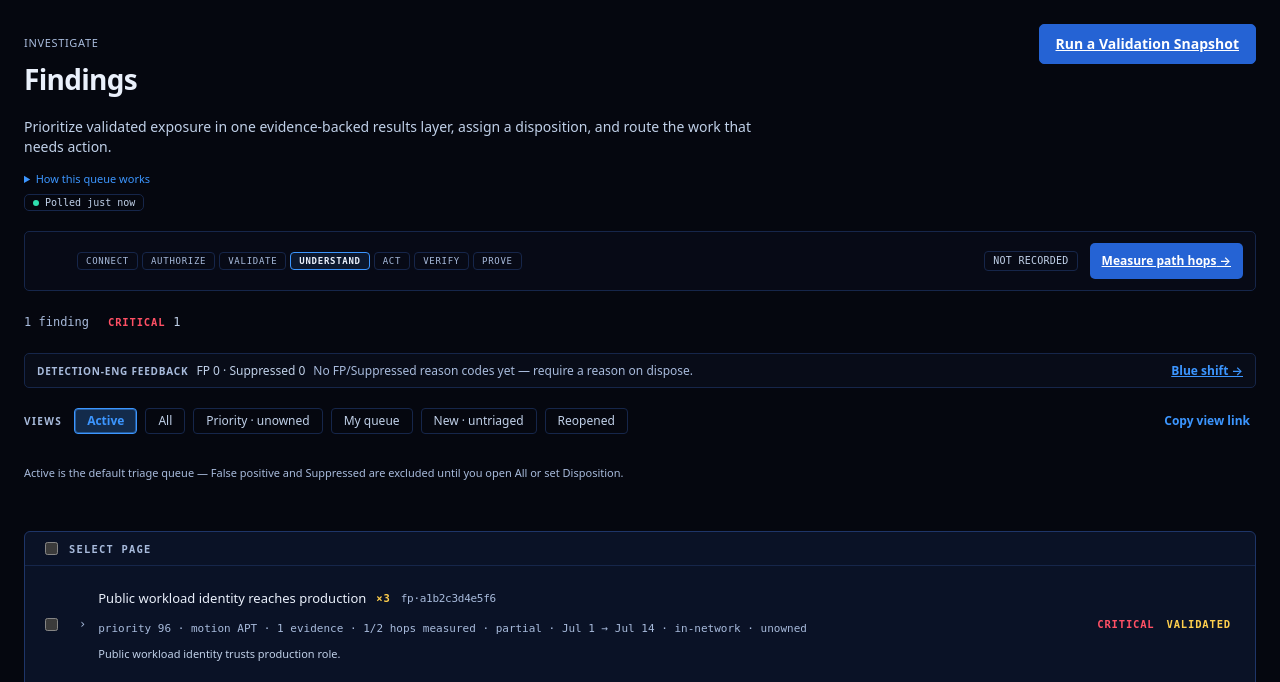
Test case: FindingsWorkbench v2 › bulk FP disposition includes mute fingerprint checkbox (ICP-P1-1)
Click the checkbox named "Select Public workload identity reaches production": x=52, y=624 x1=45 y1=618 x2=58 y2=631
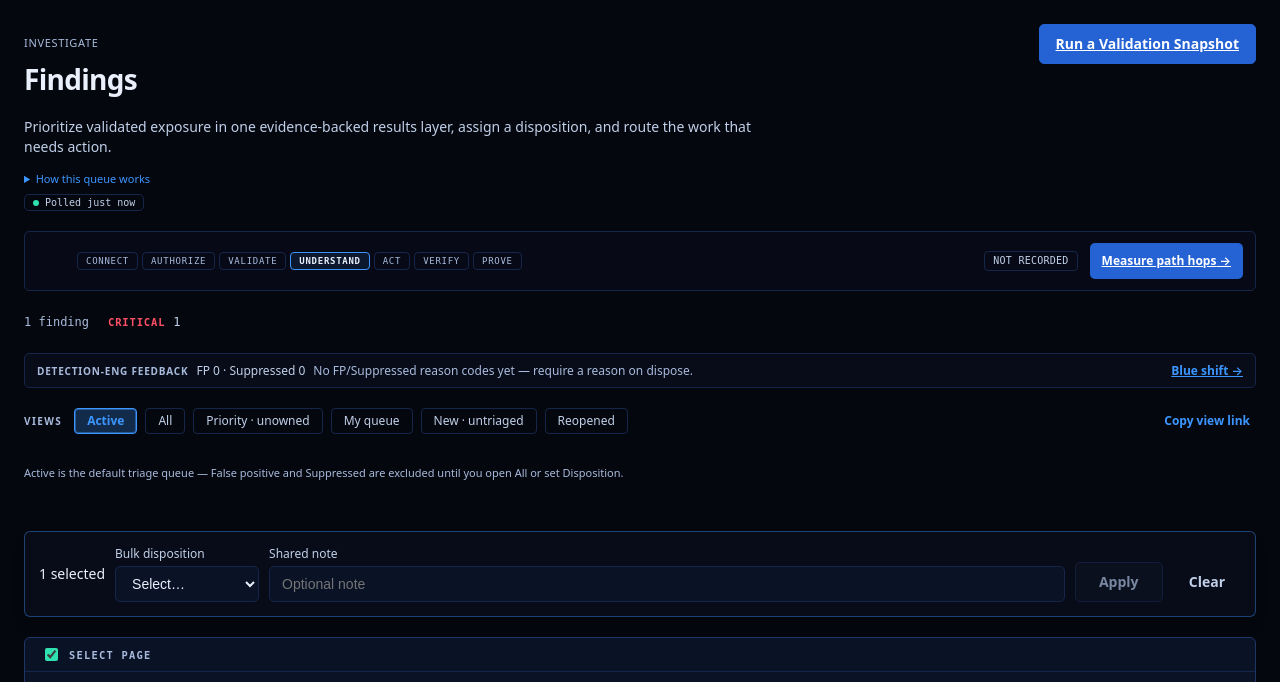
Select "False positive" in the dropdown labelled "Bulk disposition": x=187, y=584 x1=115 y1=566 x2=259 y2=602
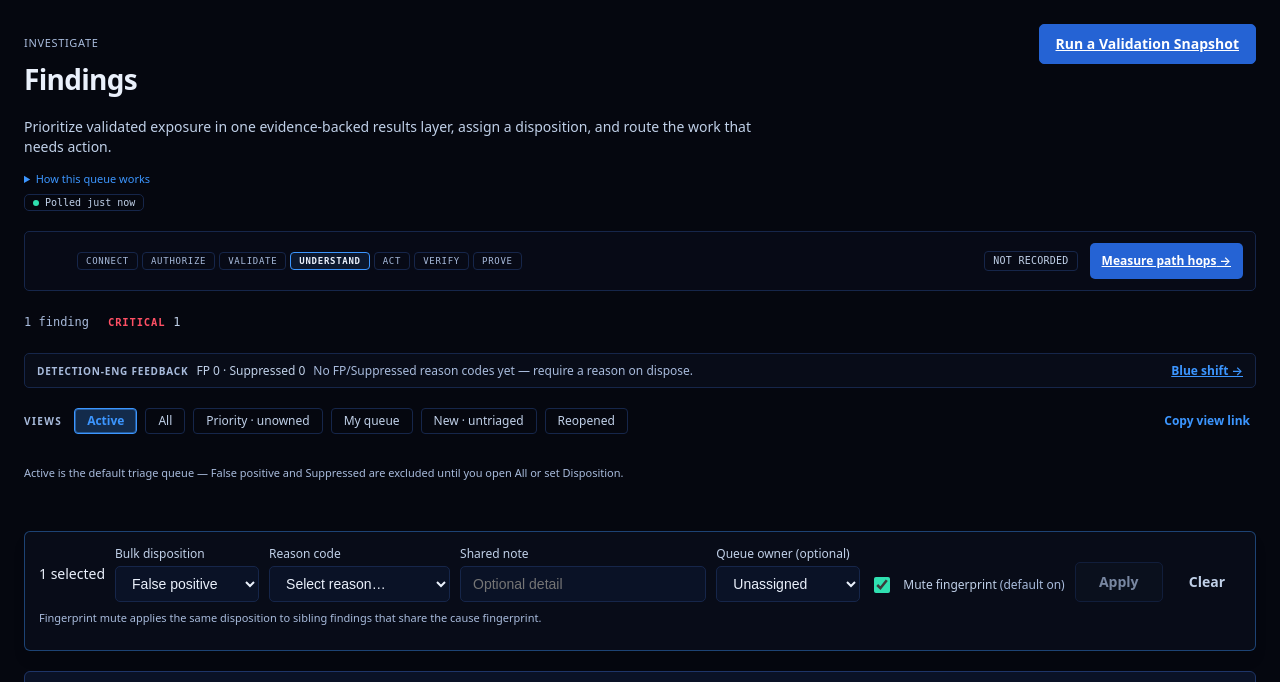
Expected: the checkbox with test id "bulk-mute-fingerprint" is checked, x1=874 y1=577 x2=890 y2=593
Expected: the text "Fingerprint mute applies the same disposition" is shown, x1=39 y1=610 x2=541 y2=625
